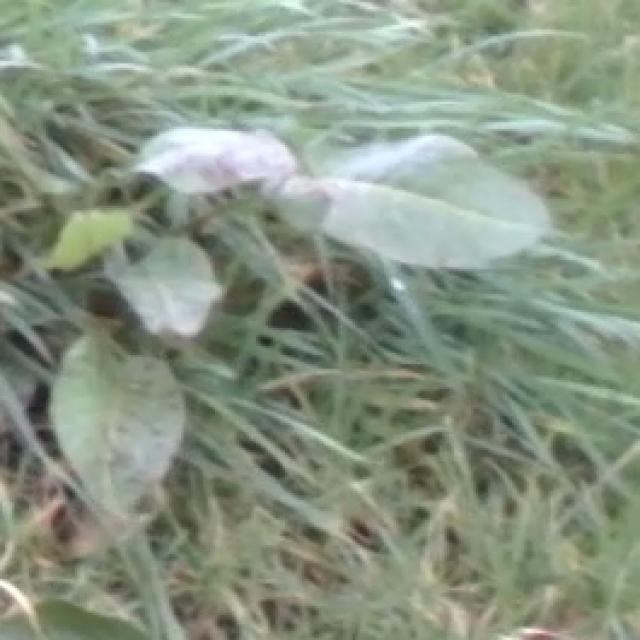organic waste: (23, 88, 537, 430)
